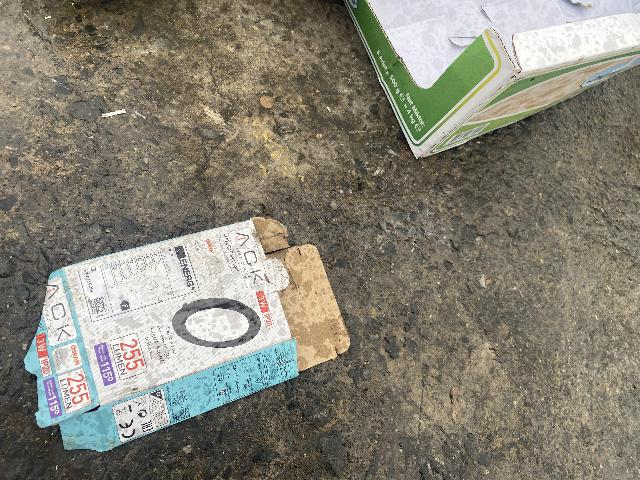Kagit: (22, 216, 352, 454), (344, 0, 640, 161)
